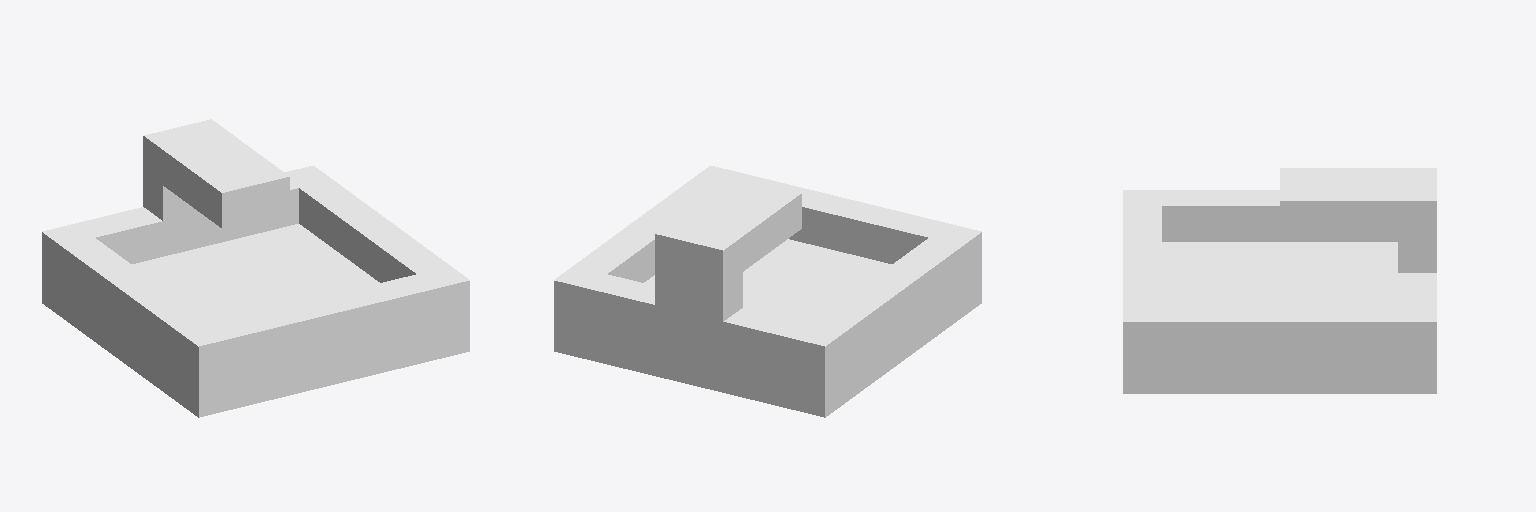
File: WaterTap.obj
The picture shows the model from 3 angles: view 1: azimuth 30°, elevation 25°; view 2: azimuth 150°, elevation 25°; view 3: azimuth 270°, elevation 25°; orthographic projection.
Visible parts, largest first — view 1: object 1; view 2: object 1; view 3: object 1.
Part boxes in pixels (left/top/right/bottom): object 1: left=42, top=119, right=469, bottom=417; object 1: left=554, top=165, right=981, bottom=417; object 1: left=1123, top=168, right=1436, bottom=393.
Size of the model in its own units: 0.8 by 0.4 by 0.8.